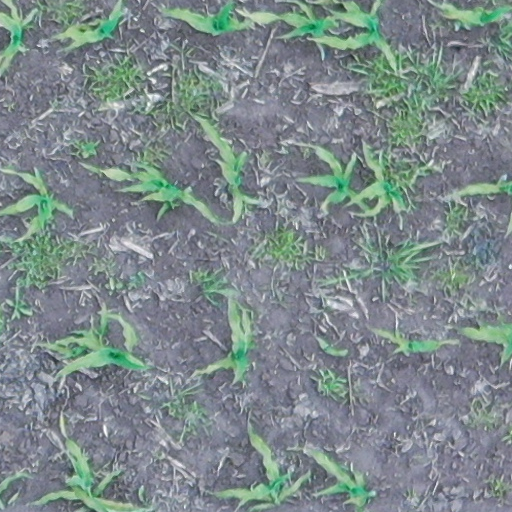planta: (76, 158, 219, 226), (299, 141, 408, 219), (191, 112, 263, 224), (53, 341, 153, 380), (222, 297, 256, 384), (280, 10, 348, 53), (93, 303, 139, 353), (374, 326, 440, 357), (42, 327, 99, 361), (16, 167, 45, 191)
